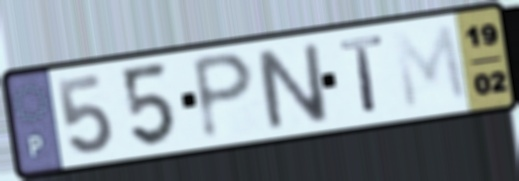5: (117, 57, 181, 150), (53, 70, 116, 158)
M: (389, 21, 472, 113)
N: (251, 39, 334, 133)
P: (188, 49, 258, 145)
T: (336, 32, 387, 118)
